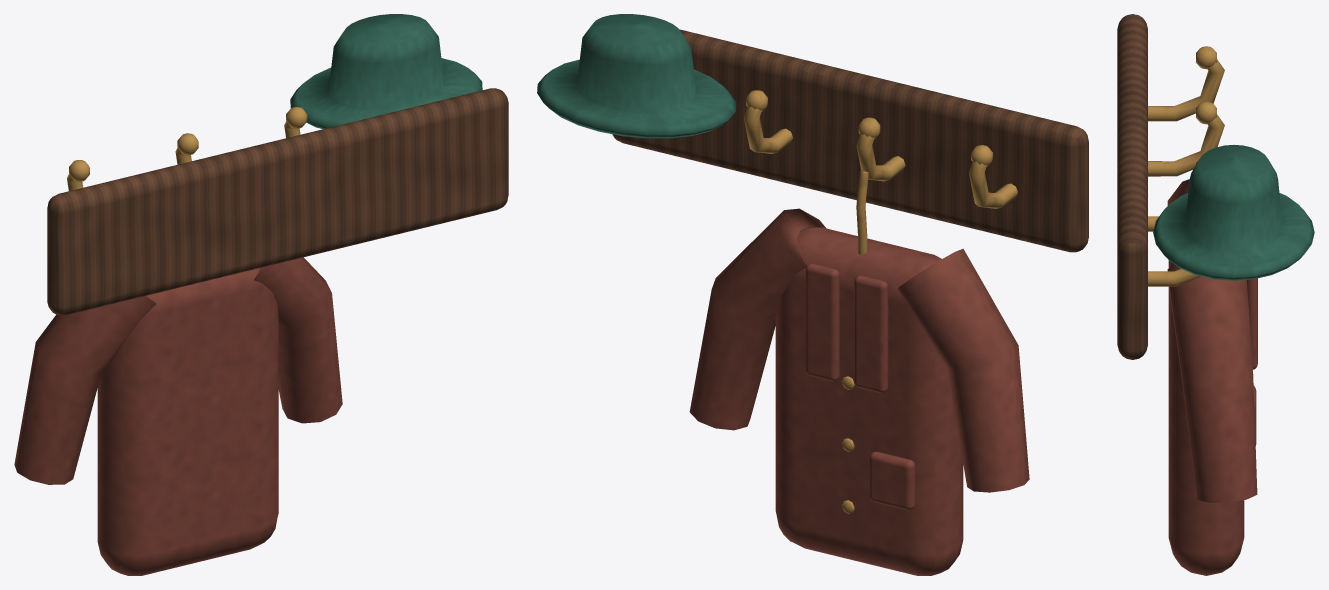
Rendered from coat_rack.glb.
3 renders of one model, left to right at view 1: azimuth 30°, elevation 25°; view 2: azimuth 150°, elevation 25°; view 3: azimuth 270°, elevation 25°, orthographic. The views are drawn at different scales.
Visible parts, largest first — view 1: MountBoard, CoatBody, Hat, SleeveLeft, SleeveRight; view 2: MountBoard, CoatBody, SleeveLeft, Hat, SleeveRight, CoatLapelRight, CoatLapelLeft, Pocket, Hook1, Hook3, Hook2, HangerLoop; view 3: SleeveRight, Hat, MountBoard, CoatBody, Hook1, Hook2, CoatLapelRight, Hook4, HookTip2, HookTip1.
Part boxes in pixels (box(x1,y1,x2,y2)): MountBoard: box(47, 88, 508, 315); CoatBody: box(97, 268, 278, 575); Hat: box(290, 14, 482, 128); SleeveLeft: box(14, 296, 156, 484); SleeveRight: box(254, 257, 342, 423); MountBoard: box(612, 29, 1088, 252); CoatBody: box(775, 227, 963, 575); SleeveLeft: box(897, 248, 1029, 492); Hat: box(537, 14, 736, 138); SleeveRight: box(689, 208, 826, 430); CoatLapelRight: box(805, 263, 839, 381); CoatLapelLeft: box(854, 275, 888, 392); Pocket: box(869, 451, 915, 510); Hook1: box(969, 161, 1017, 208); Hook3: box(744, 106, 792, 153); Hook2: box(856, 134, 905, 181); HangerLoop: box(856, 170, 868, 254); SleeveRight: box(1167, 265, 1257, 502); Hat: box(1153, 145, 1314, 280); MountBoard: box(1117, 14, 1147, 359); CoatBody: box(1168, 260, 1244, 575); Hook1: box(1148, 59, 1224, 121); Hook2: box(1148, 114, 1224, 176); CoatLapelRight: box(1246, 278, 1257, 369); Hook4: box(1148, 269, 1200, 286); HookTip2: box(1196, 101, 1216, 124); HookTip1: box(1196, 46, 1216, 69).
Size of the model in its own units: 0.83 by 0.794 by 0.2878.
5 materials, 5 textured.
